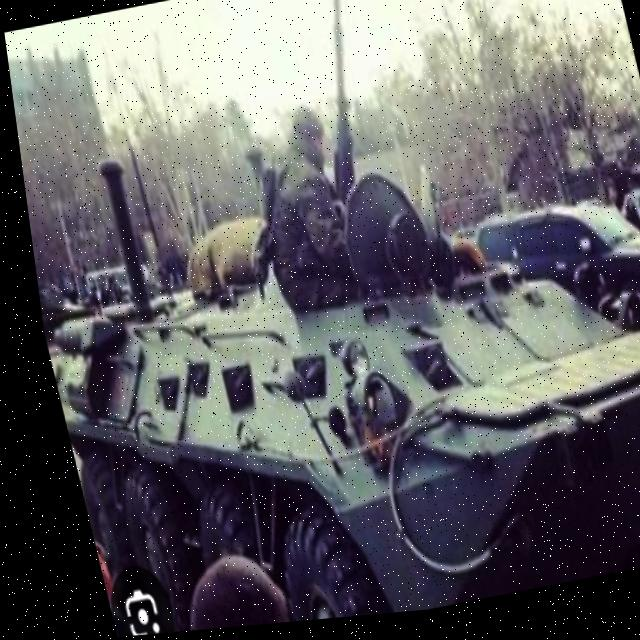MIL_APC: (19, 140, 640, 640)
